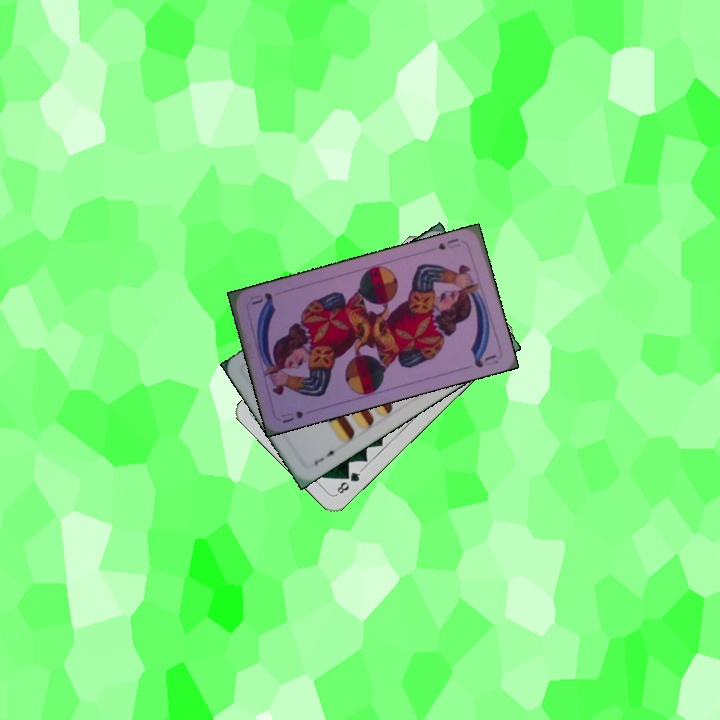E7: (310, 445, 342, 468)
G8: (332, 465, 364, 497)
SU: (277, 407, 306, 426), (434, 234, 463, 253)
